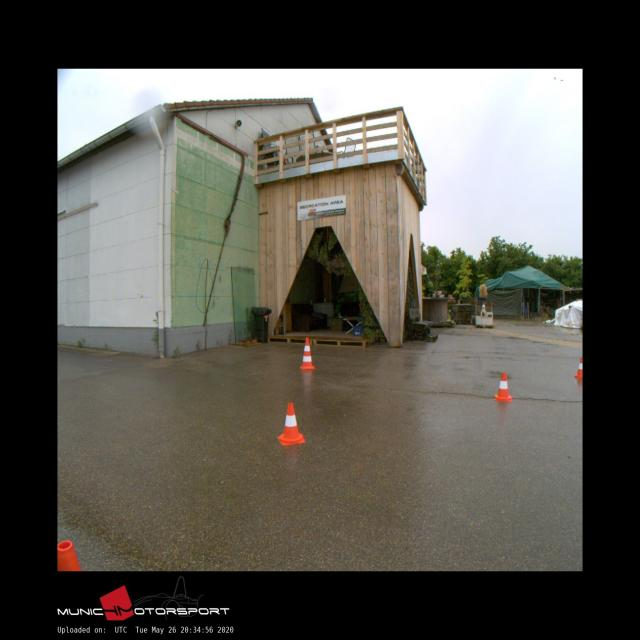large_orange_cone: (300, 337, 314, 369)
orange_cone: (277, 402, 305, 445), (494, 372, 512, 401), (575, 357, 582, 377)
